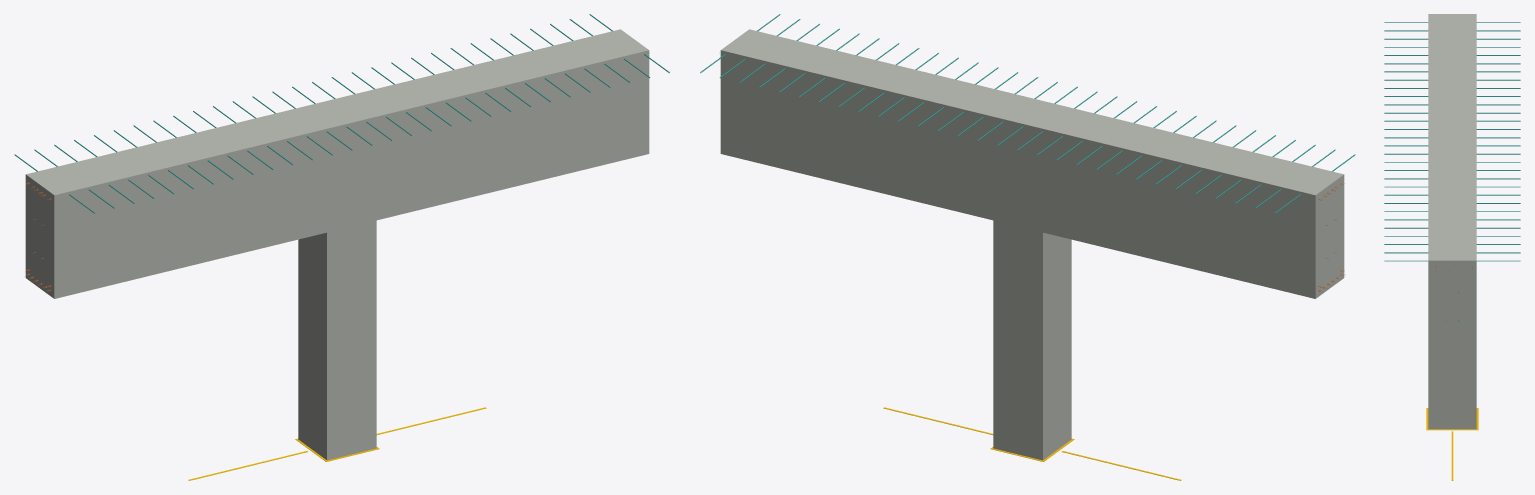
Rendered from unterzug-441-vorort13.glb.
3 renders of one model, left to right at view 1: azimuth 30°, elevation 25°; view 2: azimuth 150°, elevation 25°; view 3: azimuth 270°, elevation 25°, orthographic. The views are drawn at different scales.
Parts seen in each view (by area): view 1: Beton; view 2: Beton; view 3: Beton, Pos_30_geschaetzt_112, Pos_30_geschaetzt_113, Pos_30_geschaetzt_116, Pos_30_geschaetzt_117, Pos_30_geschaetzt_118, Pos_30_geschaetzt_121, Pos_30_geschaetzt_122, Pos_30_geschaetzt_123, Pos_30_geschaetzt_125, Pos_30_geschaetzt_126, Pos_30_geschaetzt_127 (+7 smaller).
Boxes of the visible parts, box(x1,y1,x2,y2) form: Beton: box(25, 29, 649, 460); Beton: box(720, 29, 1344, 460); Beton: box(1428, 14, 1476, 429); Pos_30_geschaetzt_112: box(1384, 30, 1520, 31); Pos_30_geschaetzt_113: box(1384, 38, 1520, 39); Pos_30_geschaetzt_116: box(1384, 63, 1520, 64); Pos_30_geschaetzt_117: box(1384, 71, 1520, 72); Pos_30_geschaetzt_118: box(1384, 79, 1520, 80); Pos_30_geschaetzt_121: box(1384, 104, 1520, 105); Pos_30_geschaetzt_122: box(1384, 112, 1520, 113); Pos_30_geschaetzt_123: box(1384, 120, 1520, 121); Pos_30_geschaetzt_125: box(1384, 137, 1520, 138); Pos_30_geschaetzt_126: box(1384, 145, 1520, 146); Pos_30_geschaetzt_127: box(1384, 153, 1520, 154).
Bounding box in the file's own units: 6.11 × 3.2 × 1.4.
